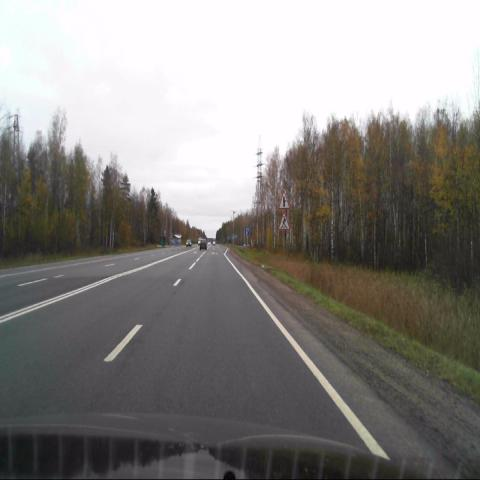2_3_2: (279, 190, 290, 210)
